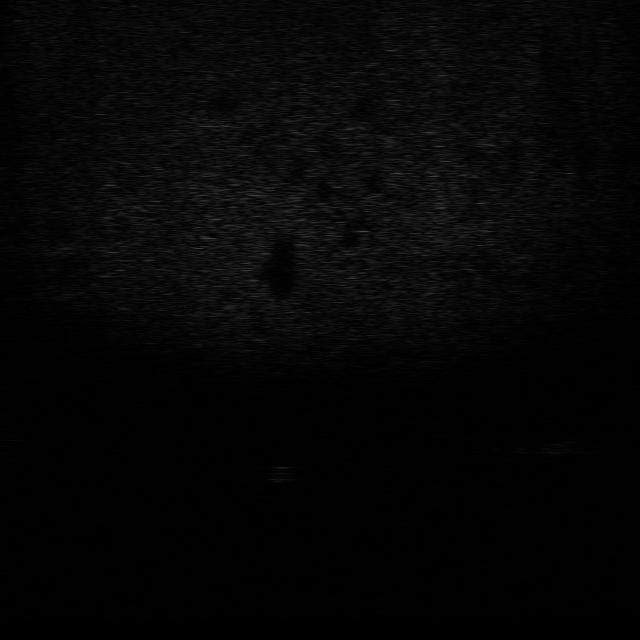ball: (256, 461, 299, 485)
human body: (500, 427, 601, 457)
